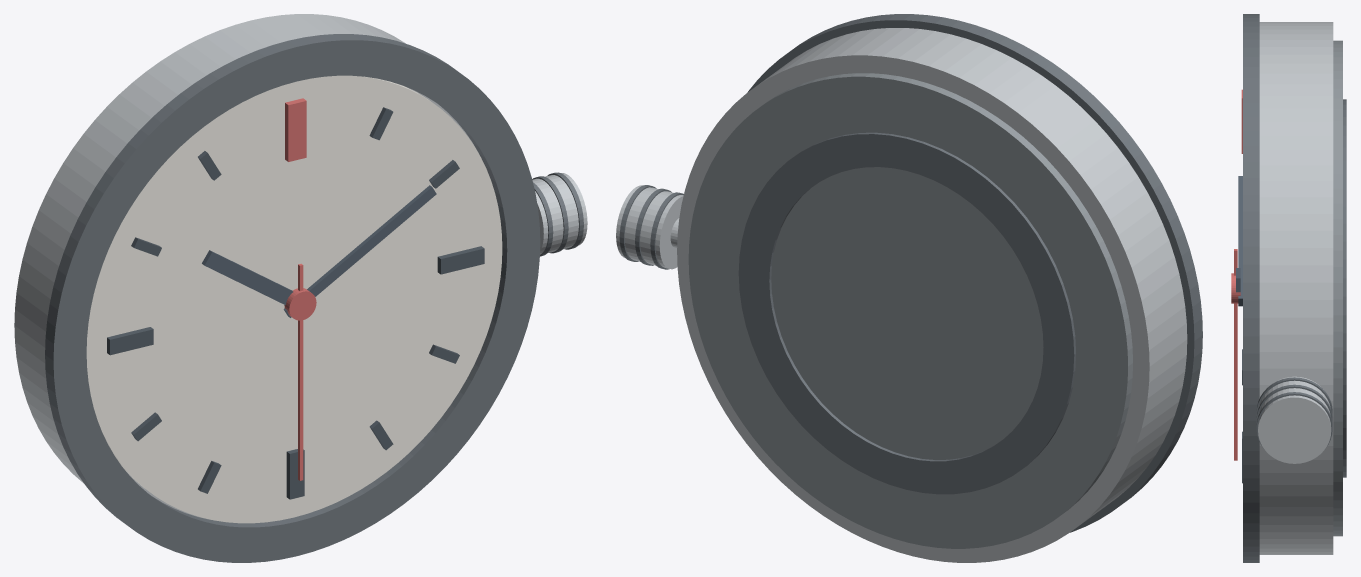
File: watch_model_round.glb
3 views of the same model, side by side, from view 1: azimuth 30°, elevation 25°; view 2: azimuth 150°, elevation 25°; view 3: azimuth 270°, elevation 25° (orthographic). The views are drawn at different scales.
Visible parts, largest first — view 1: Dial, Bezel, Case, Crown, MinuteHand, HourHand, Marker_12_Accent, SecondHand, Marker_3, Marker_9, CenterPin, Marker_6; view 2: CaseBack, Case, CaseBackRing, Bezel, Crown; view 3: Case, Bezel, CaseBack, Crown, CaseBackRing, SecondHand, HourHand, CrownBand_0.0247, CrownBand_0.0234, CrownBand_0.0221, CenterPin.
Boxes of the visible parts, left/top/right/bottom form: Dial: left=86, top=75, right=502, bottom=523; Bezel: left=45, top=34, right=540, bottom=562; Case: left=14, top=14, right=479, bottom=519; Crown: left=532, top=173, right=587, bottom=254; MinuteHand: left=283, top=185, right=436, bottom=317; HourHand: left=202, top=250, right=293, bottom=305; Marker_12_Accent: left=285, top=98, right=306, bottom=161; SecondHand: left=298, top=263, right=303, bottom=480; Marker_3: left=437, top=246, right=484, bottom=274; Marker_9: left=107, top=327, right=153, bottom=355; CenterPin: left=284, top=288, right=316, bottom=320; Marker_6: left=286, top=449, right=304, bottom=499; CaseBack: left=688, top=73, right=1132, bottom=548; Case: left=677, top=28, right=1187, bottom=562; CaseBackRing: left=738, top=132, right=1075, bottom=494; Bezel: left=747, top=14, right=1202, bottom=532; Crown: left=616, top=185, right=683, bottom=269; Case: left=1259, top=22, right=1333, bottom=554; Bezel: left=1243, top=14, right=1259, bottom=562; CaseBack: left=1333, top=40, right=1342, bottom=536; Crown: left=1258, top=376, right=1331, bottom=463; CaseBackRing: left=1343, top=99, right=1346, bottom=477; SecondHand: left=1234, top=249, right=1237, bottom=460; HourHand: left=1238, top=176, right=1242, bottom=306; CrownBand_0.0247: left=1256, top=392, right=1332, bottom=449; CrownBand_0.0234: left=1256, top=384, right=1332, bottom=422; CrownBand_0.0221: left=1256, top=377, right=1332, bottom=415; CenterPin: left=1231, top=273, right=1240, bottom=303.
Size of the model in its own units: 0.0459 by 0.0412 by 0.00867.
